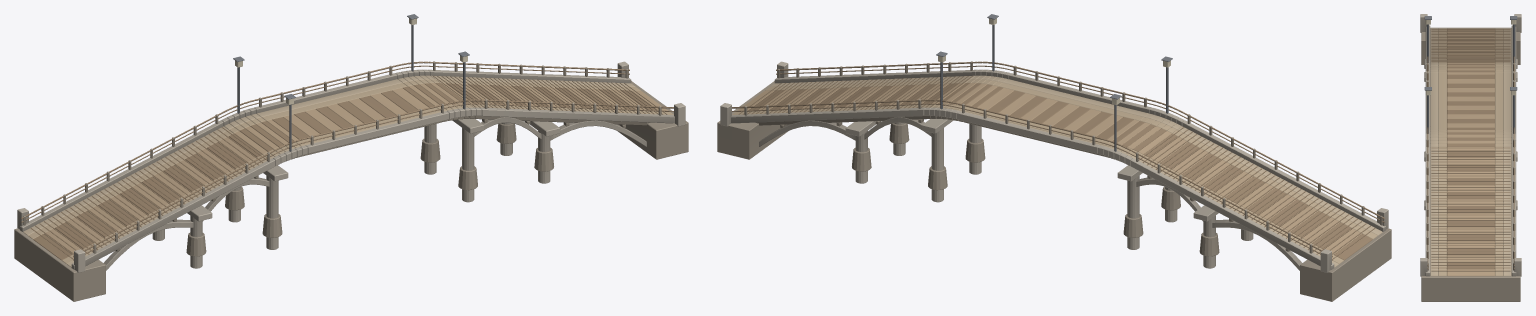
File: bridge_yunseul_wide.glb
3 views of the same model, side by side, from view 1: azimuth 30°, elevation 25°; view 2: azimuth 150°, elevation 25°; view 3: azimuth 270°, elevation 25° (orthographic). The views are drawn at different scales.
Size of the model in its own units: 56.6 by 13.51 by 9.7.
